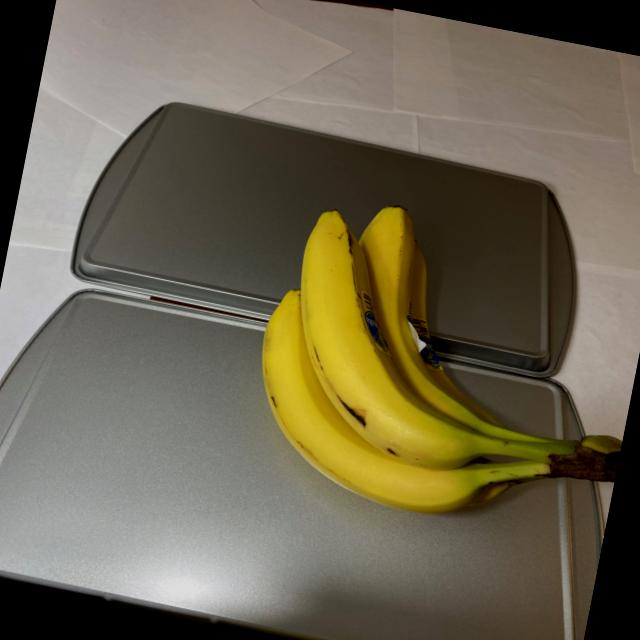banana: (229, 182, 640, 552)
